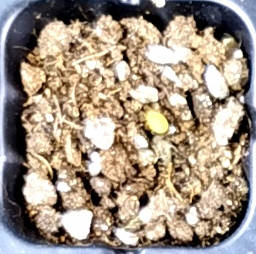pepper seed: (61, 43, 231, 177)
